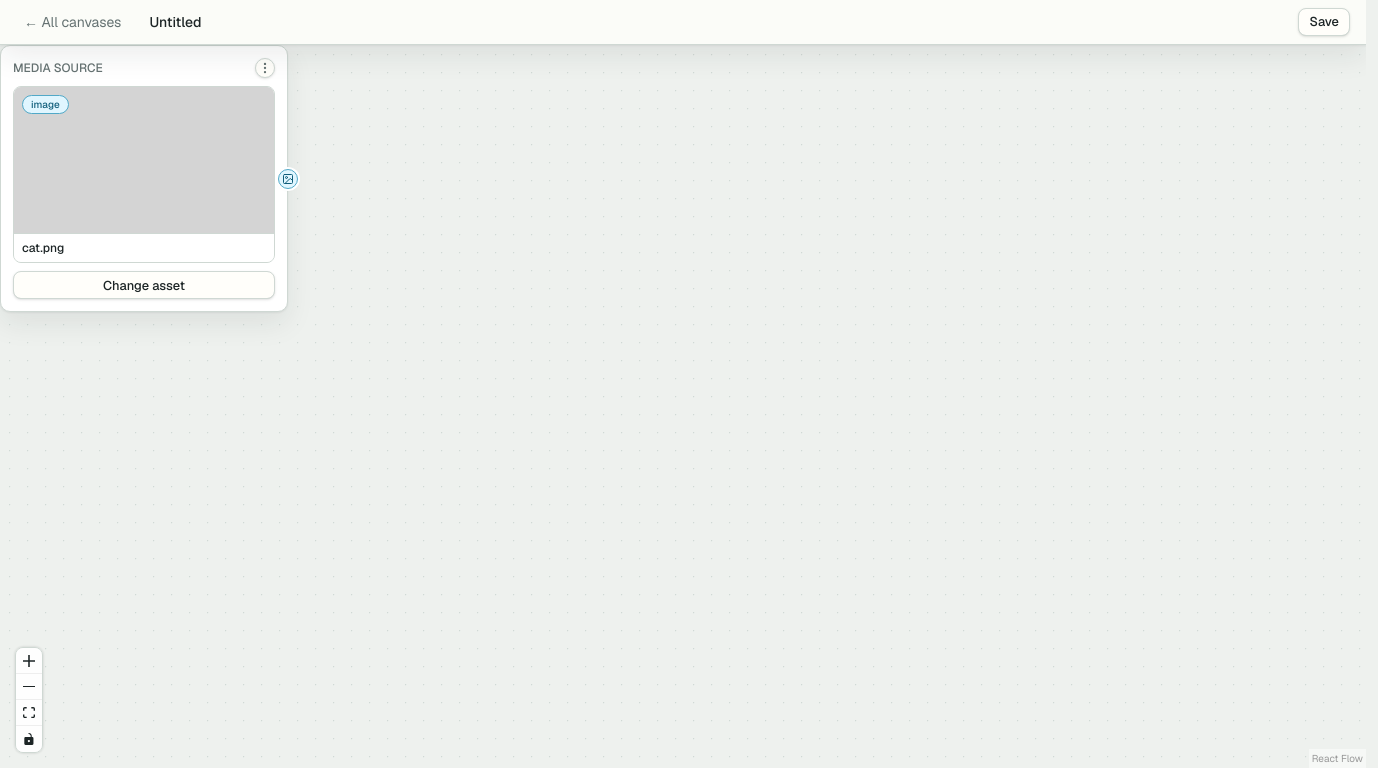
Test: CanvasEditor drag-to-spawn (Handle-Spawned Node, issue #17) › creates and auto-connects the chosen node when a candidate is picked
The image size is (1378, 768).
Press the mouse on the element with class "source" at (288, 179), box [285,176,291,182]
(page scrolled)
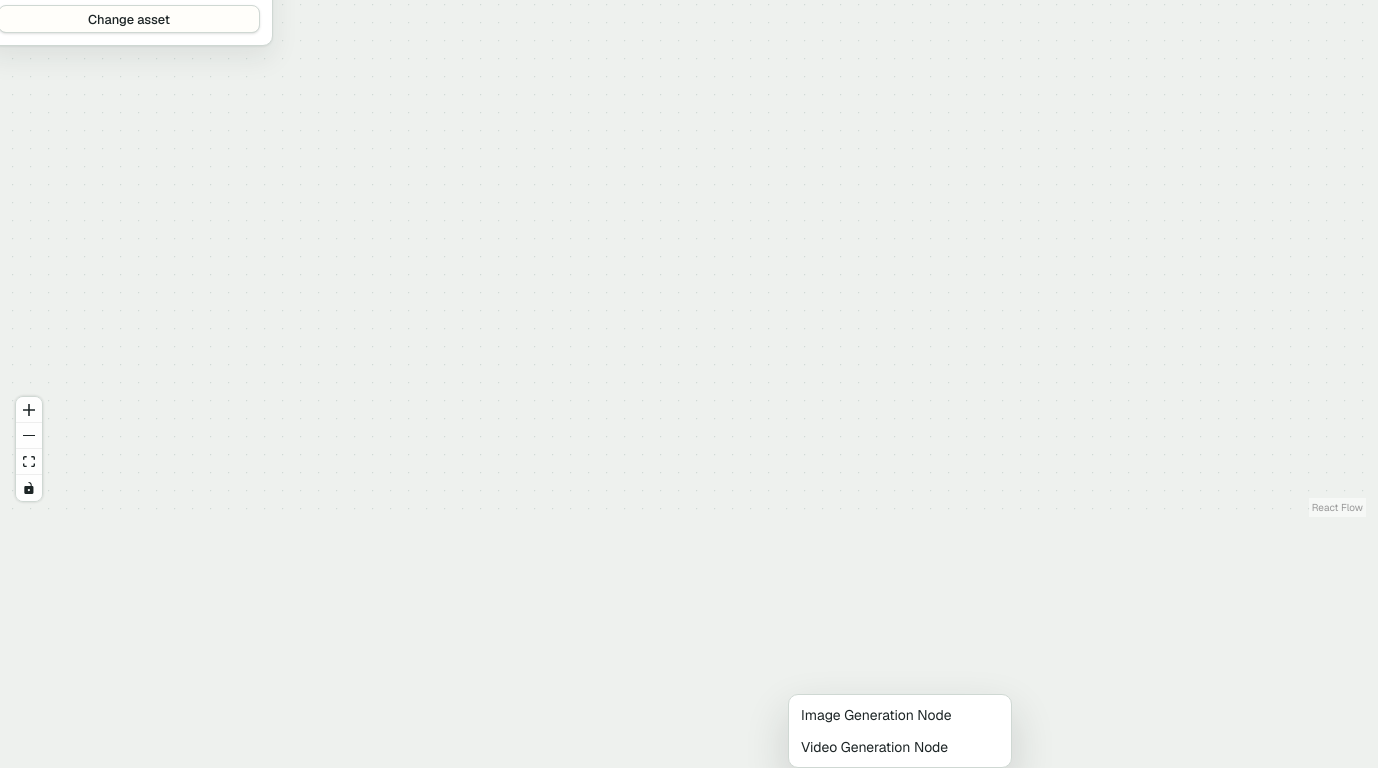
Click the menu item "Image Generation Node" at (900, 715), box [793,699,1007,731]
(page scrolled)
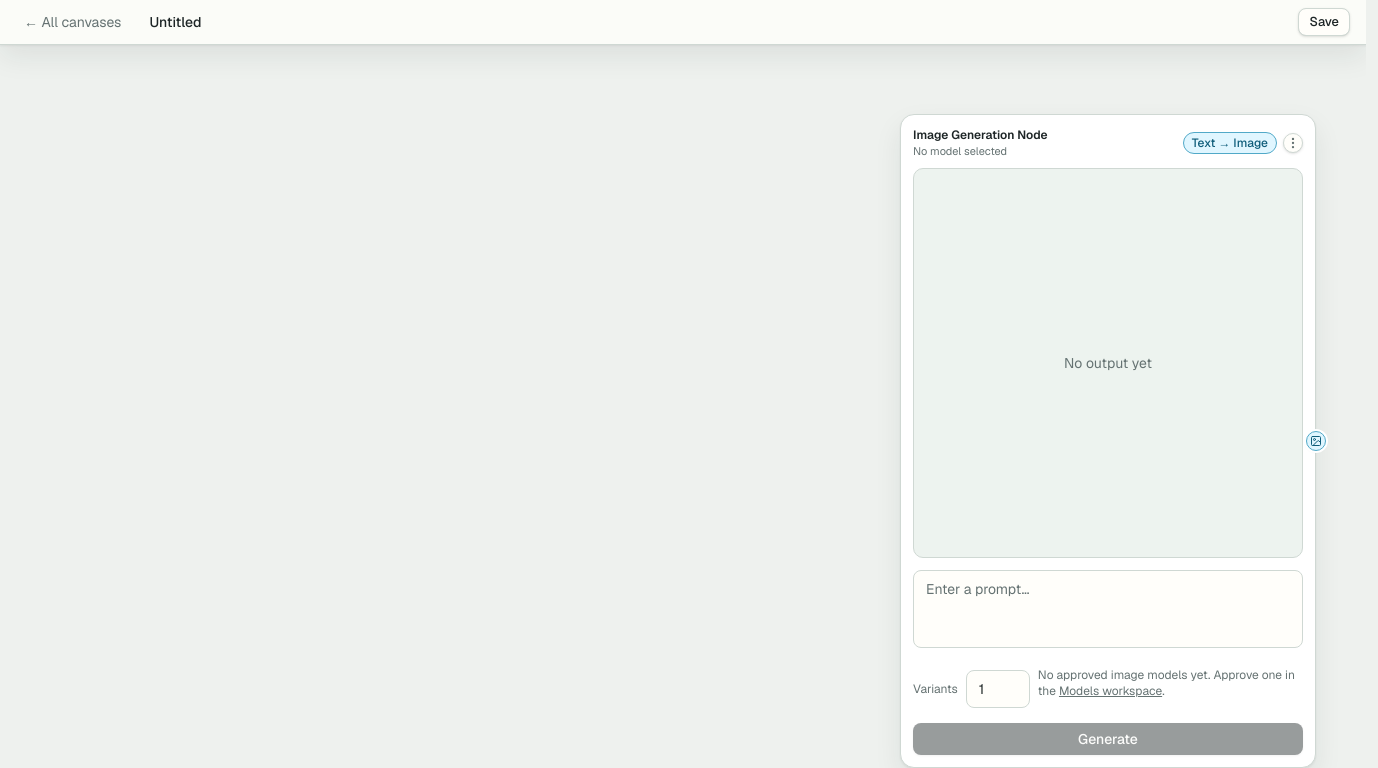
expect the text box with placeholder "Enter a prompt…" is shown: met, box [913,570,1303,648]
